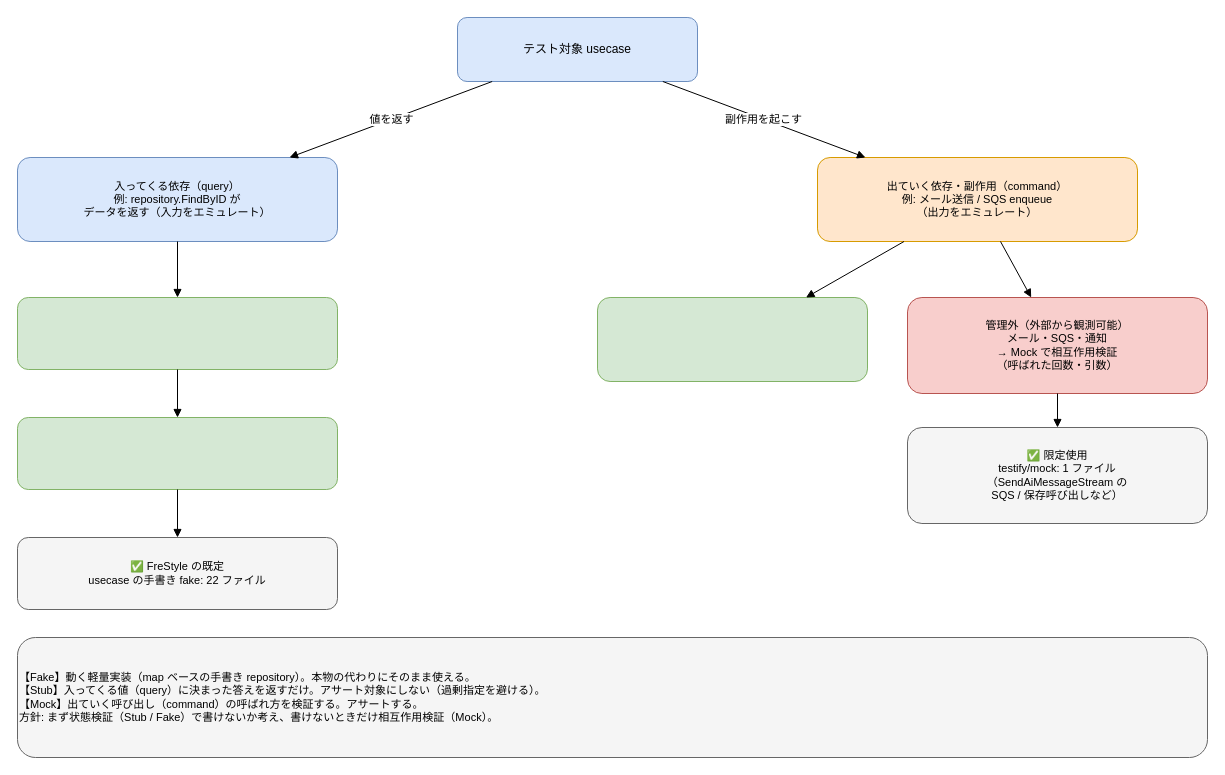
The diagram is 1225 pixels wide and 775 high, and some of its shapes have lost their labels. Here are the shapes that lost their labels. From the top down, the centre of each, then its label:
At (177,333): "Stub / 手書き Fake （map ベースの軽量実装）".
At (732,339): "管理下（DB 等・アプリ専用） → Fake で状態検証 （実装詳細なのでモックしない）".
At (177,453): "状態・戻り値を検証 （fake 自体にはアサートしない）".
